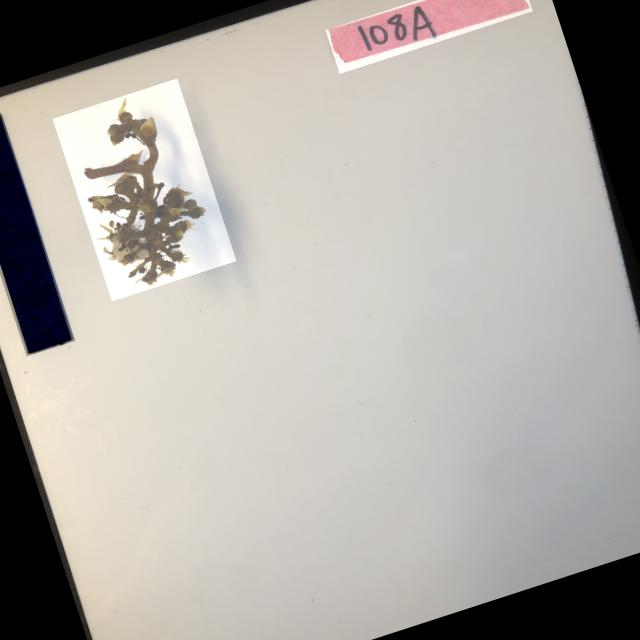index: (326, 0, 533, 73)
measure_label: (0, 113, 75, 357)
rachis_cluster: (52, 78, 236, 302)
